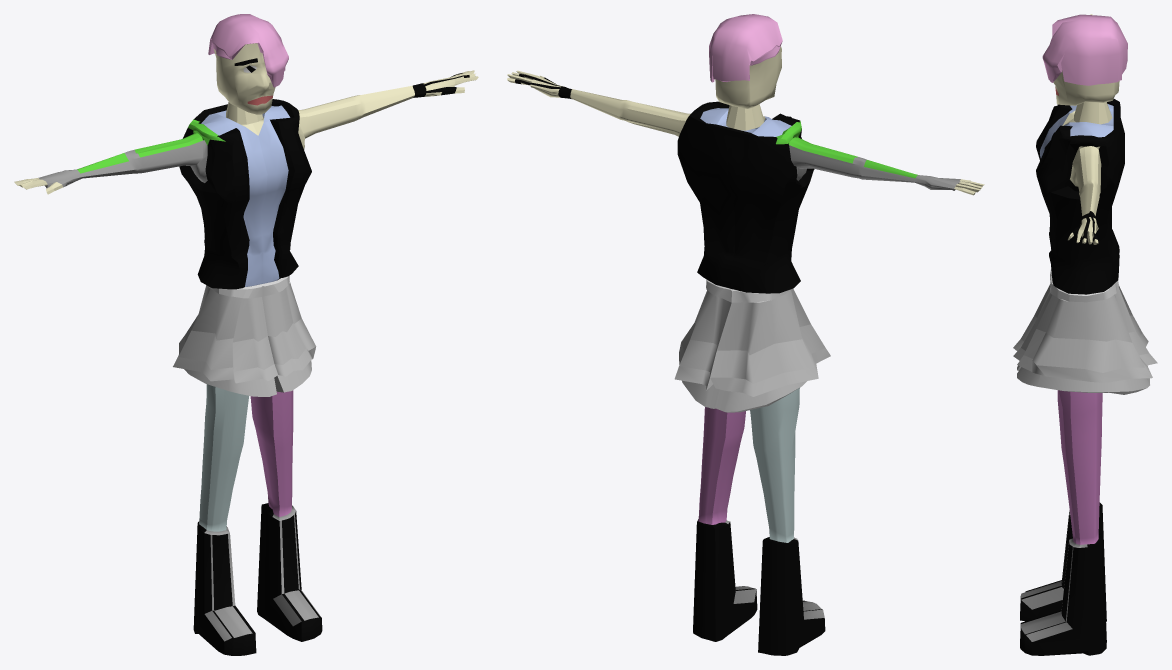
Rendered from Symph_1.fbx.
3 renders of one model, left to right at view 1: azimuth 30°, elevation 25°; view 2: azimuth 150°, elevation 25°; view 3: azimuth 270°, elevation 25°, orthographic. The views are drawn at different scales.
Visible parts, largest first — view 1: pCube7; view 2: pCube7; view 3: pCube7.
Part boxes in pixels (<box>): pCube7: <box>14,14,478,655</box>; pCube7: <box>507,14,984,655</box>; pCube7: <box>1013,14,1157,655</box>.
Bounding box in the file's own units: 6.21 × 7.77 × 1.67.
